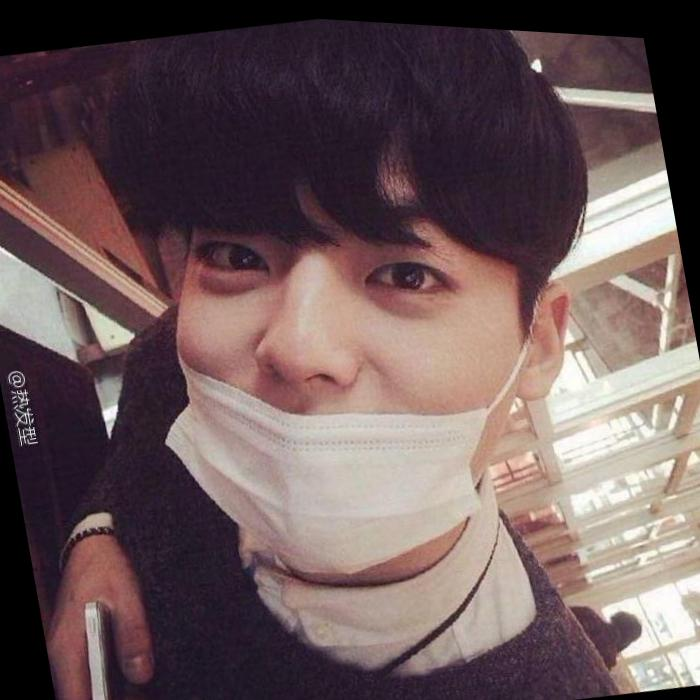WRONG: (133, 117, 591, 596)
